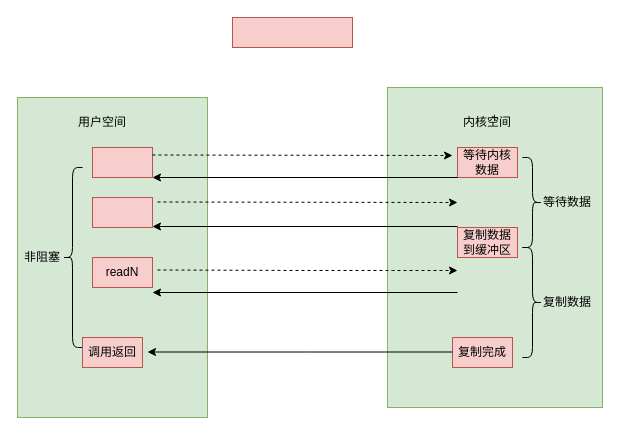
Image size: 620x435. Some labels were removed from this diagram. The shapes that lost their labels are listed below. From the top down, each one's centre as x and y in pixels, then its label:
At (292,32): "同步非阻塞IO".
At (122,162): "read1".
At (122,212): "read2".
